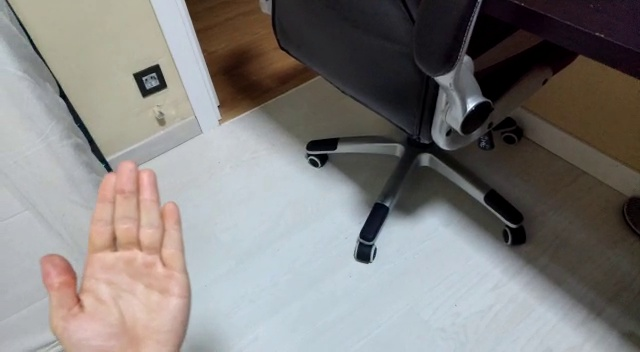Palm: (30, 156, 193, 351)
